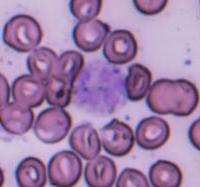N: (72, 59, 127, 116)
